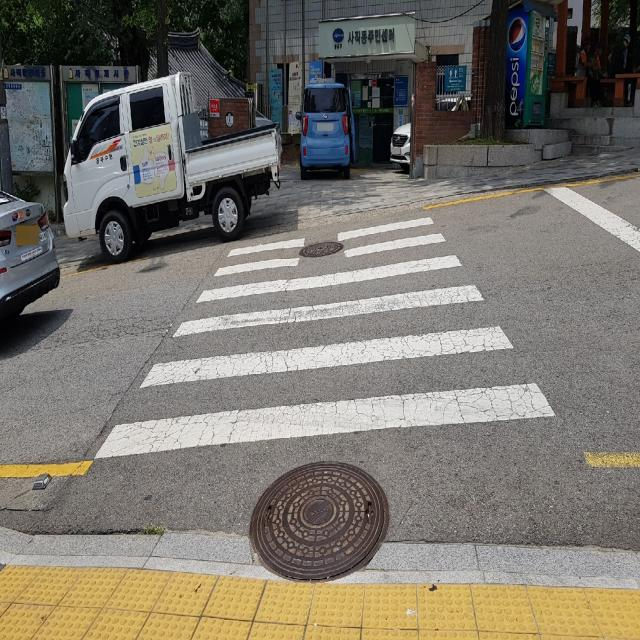횡단보도: (95, 216, 554, 460)
